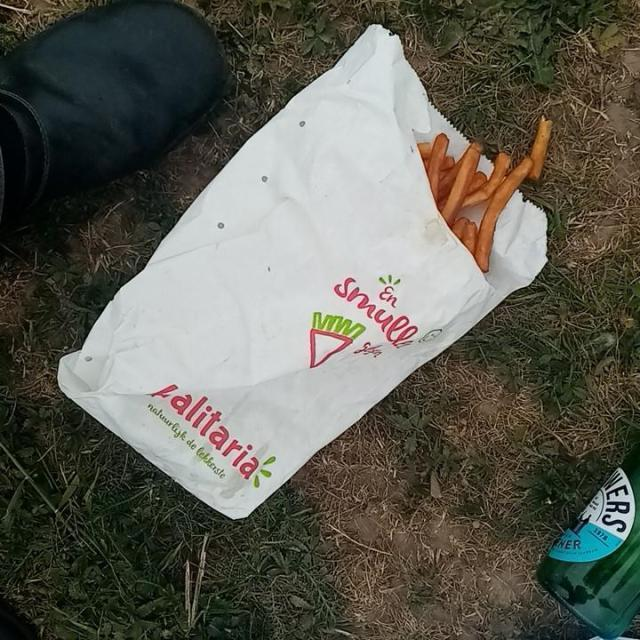Paper: (56, 22, 550, 523)
